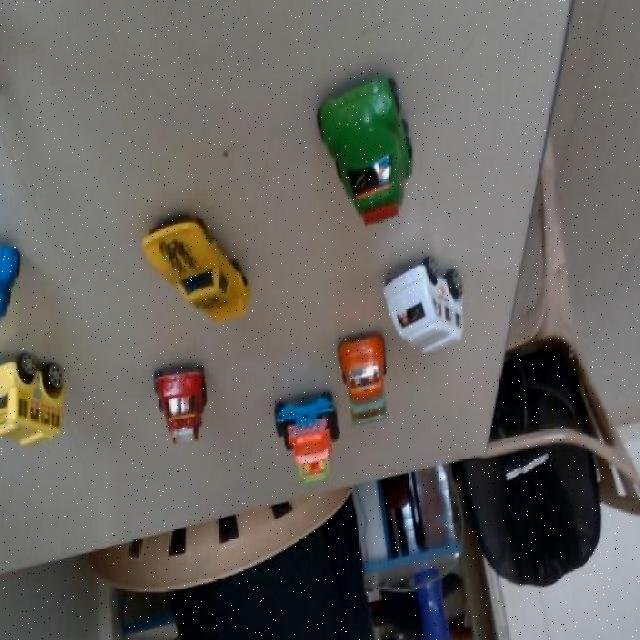car: (282, 17, 472, 244), (362, 223, 498, 390), (132, 199, 277, 333), (260, 392, 342, 496), (0, 341, 79, 446), (333, 320, 402, 440), (151, 350, 222, 450), (0, 228, 25, 347)
